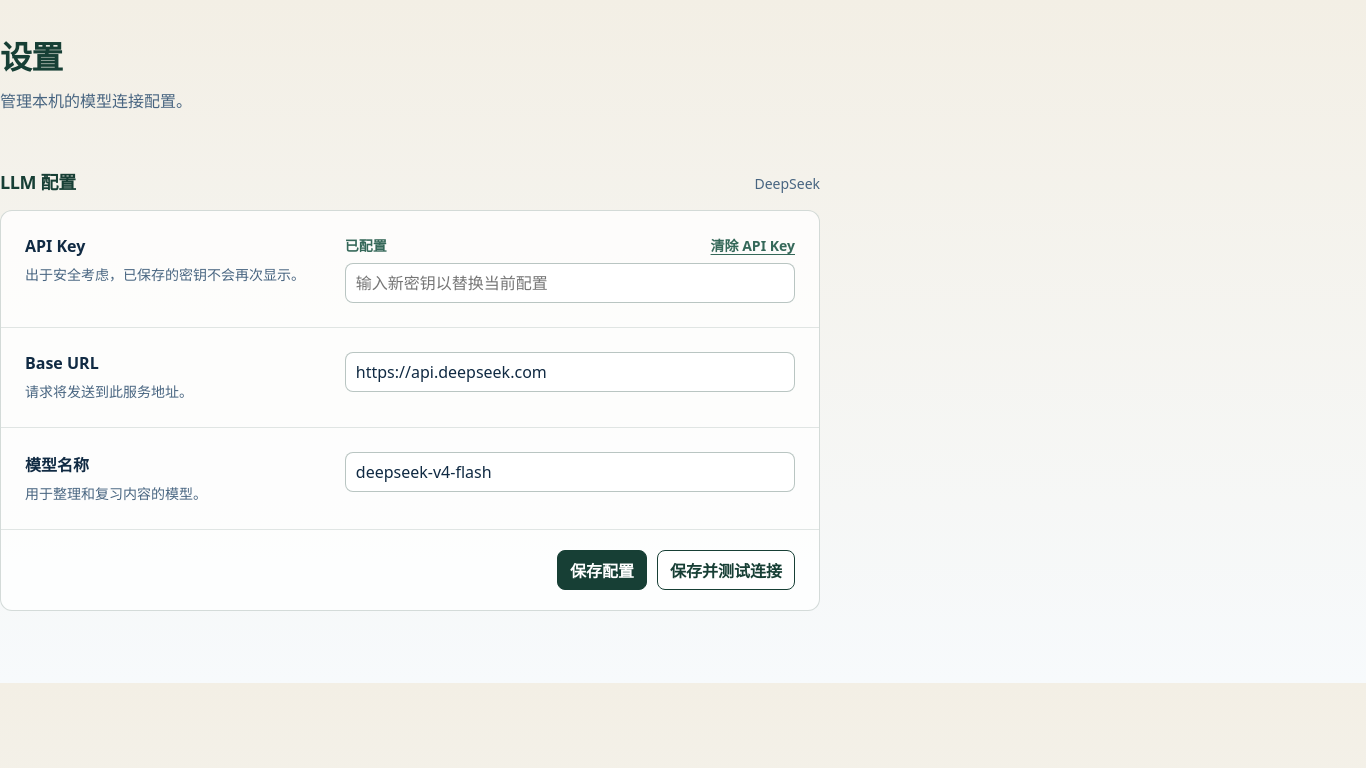
SettingsPage › 保存并测试连接会提交新输入的密钥
The width and height of the screenshot is (1366, 768).
Check: the button "保存并测试连接" is shown, box [657,550,795,590]
Type "new-key" into the password field labelled "API Key" at (570, 283), box [345,263,795,303]
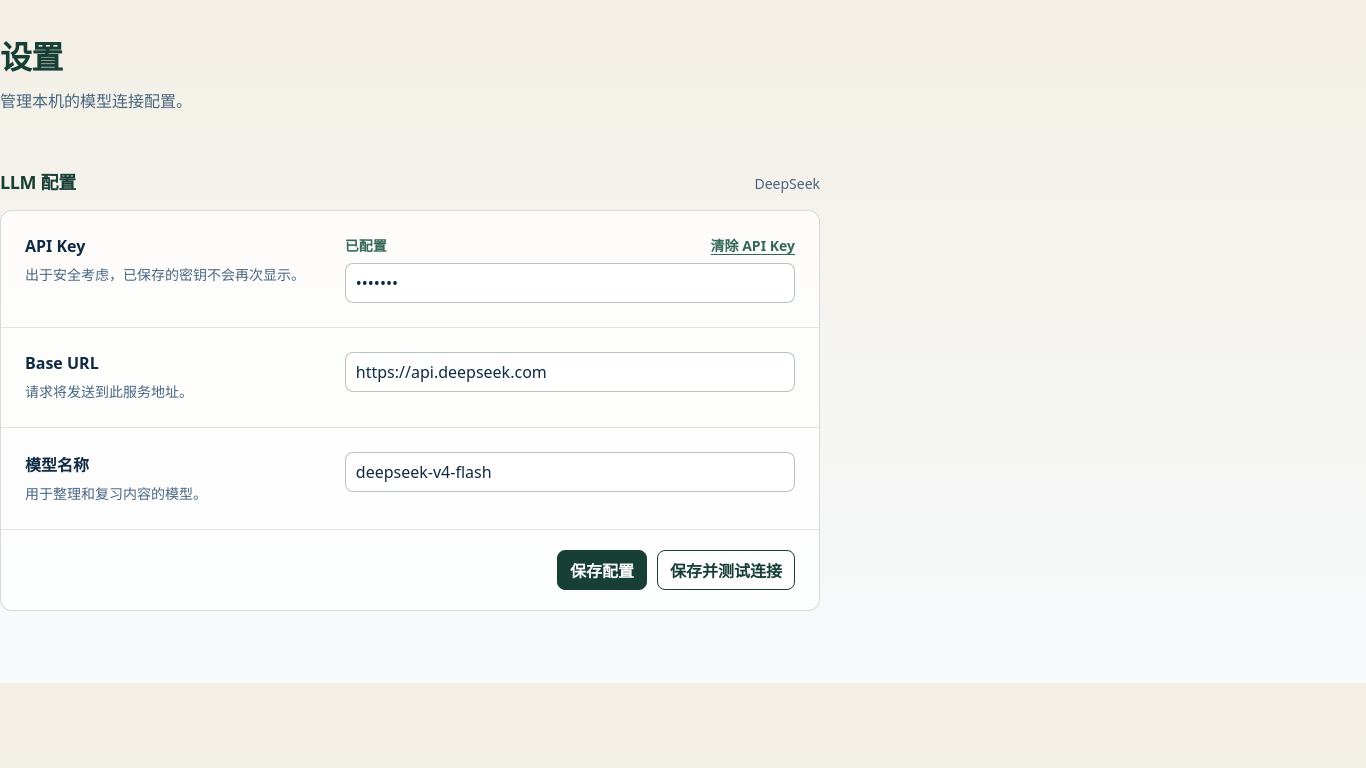
Click the button "保存并测试连接" at (726, 570), box [657,550,795,590]
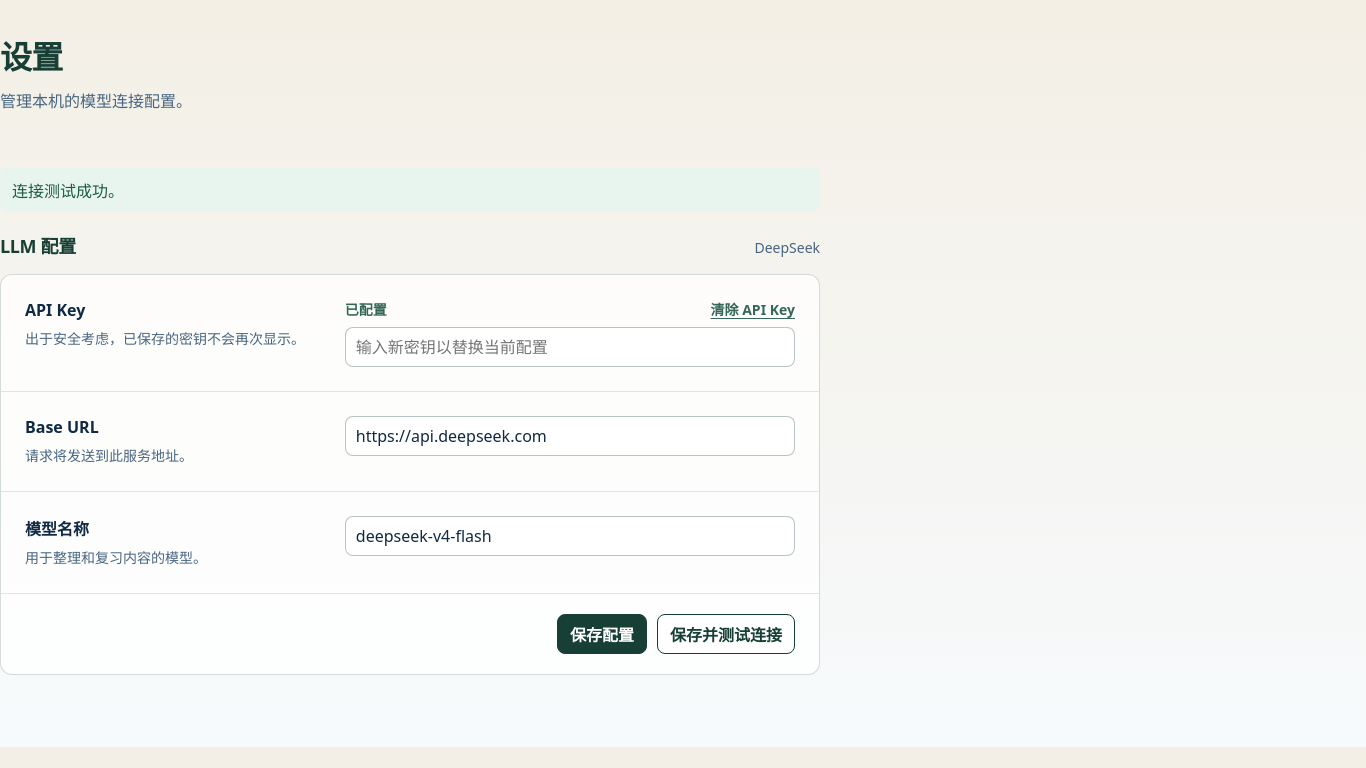
Check: the message reads "连接测试成功。", box [12,180,124,202]
